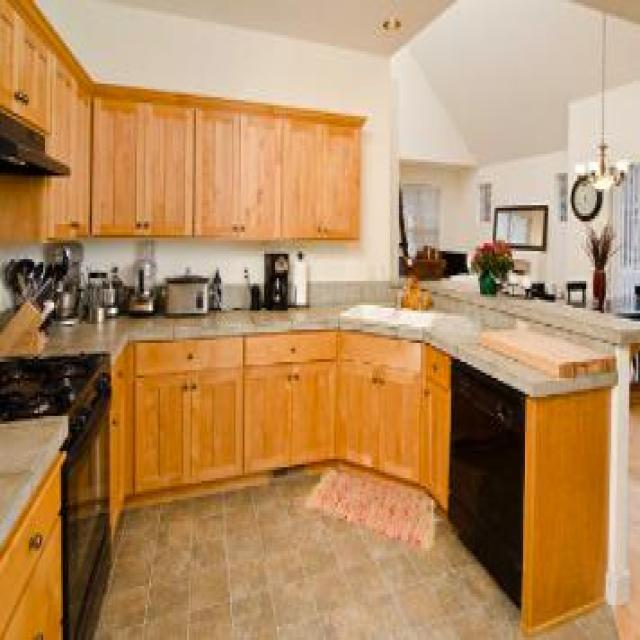dishwasher: (448, 353, 520, 608)
